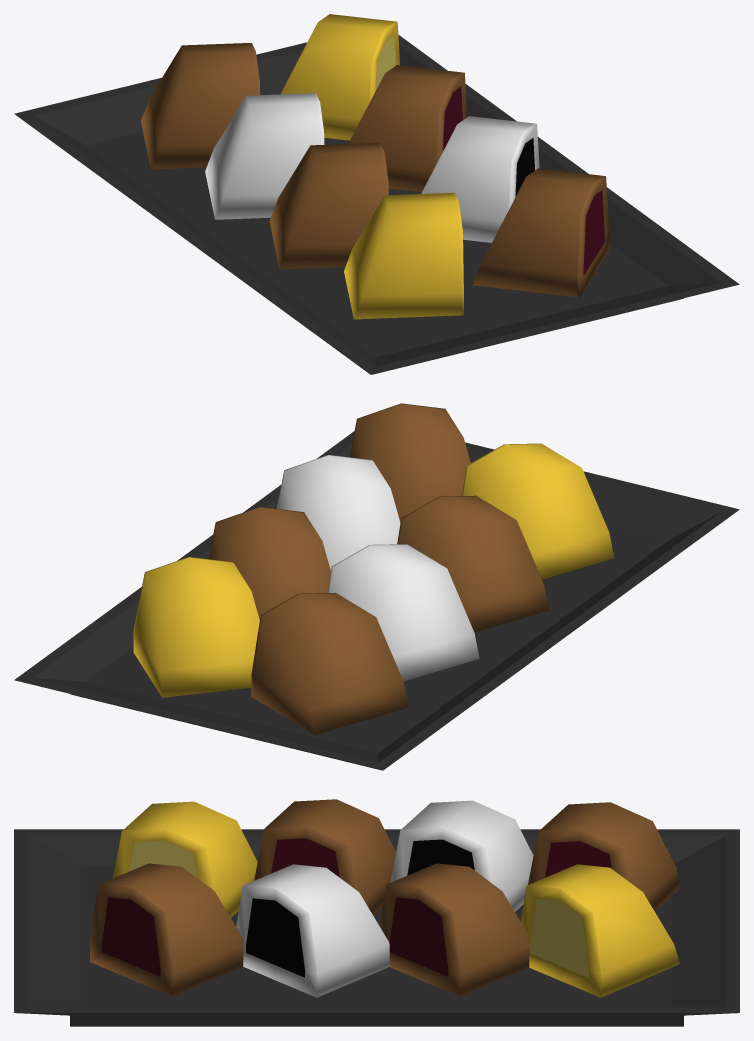
The model's file is tsukiokamanju.glb.
3 renders of one model, top to bottom at view 1: azimuth 30°, elevation 25°; view 2: azimuth 150°, elevation 25°; view 3: azimuth 270°, elevation 25°, orthographic.
Parts seen in each view (by area): view 1: 平面, Cube.004, Cube, Cube.005, Cube.007, Cube.006, Cube.003, Cube.001, Cube.002; view 2: 平面, Cube.007, Cube.002, Cube.006, Cube.005, Cube.004, Cube, Cube.001, Cube.003; view 3: 平面, Cube, Cube.001, Cube.002, Cube.003, Cube.005, Cube.007, Cube.004, Cube.006.
Part boxes in pixels (left/top/right/bottom): 平面: left=14, top=35, right=739, bottom=374; Cube.004: left=344, top=192, right=463, bottom=319; Cube: left=473, top=168, right=608, bottom=297; Cube.005: left=269, top=142, right=388, bottom=269; Cube.007: left=141, top=43, right=260, bottom=169; Cube.006: left=205, top=93, right=324, bottom=219; Cube.003: left=348, top=65, right=467, bottom=191; Cube.001: left=421, top=116, right=539, bottom=242; Cube.002: left=281, top=14, right=399, bottom=140; 平面: left=14, top=431, right=739, bottom=770; Cube.007: left=251, top=592, right=408, bottom=734; Cube.002: left=133, top=557, right=259, bottom=697; Cube.006: left=327, top=544, right=479, bottom=681; Cube.005: left=397, top=495, right=548, bottom=632; Cube.004: left=462, top=443, right=614, bottom=579; Cube: left=349, top=403, right=470, bottom=522; Cube.001: left=277, top=455, right=400, bottom=570; Cube.003: left=208, top=507, right=330, bottom=620; 平面: left=14, top=829, right=739, bottom=1026; Cube: left=90, top=863, right=243, bottom=996; Cube.001: left=236, top=864, right=389, bottom=997; Cube.002: left=521, top=864, right=679, bottom=997; Cube.003: left=379, top=863, right=529, bottom=996; Cube.005: left=254, top=799, right=395, bottom=915; Cube.007: left=528, top=802, right=680, bottom=911; Cube.004: left=113, top=801, right=257, bottom=917; Cube.006: left=390, top=800, right=533, bottom=911.
Size of the model in its own units: 3.55 by 0.9812 by 5.93.
